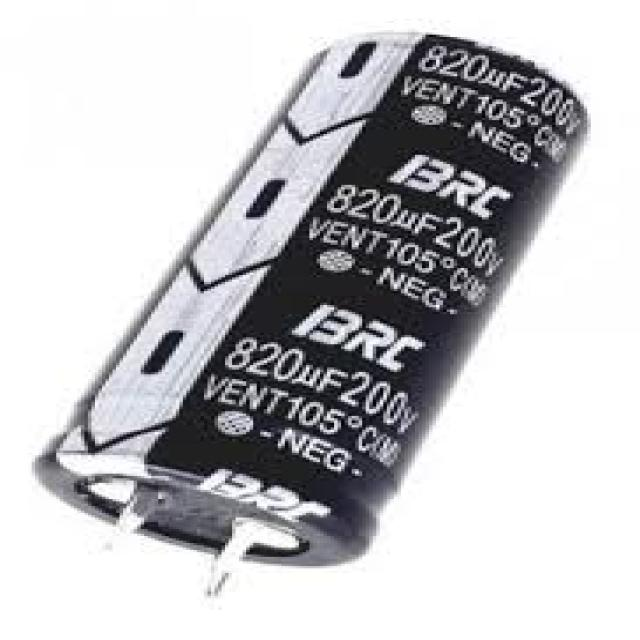Capacitor: (35, 30, 591, 598)
